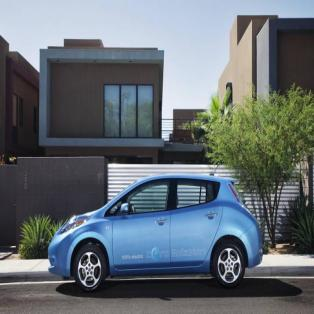Auto: (45, 172, 265, 293)
